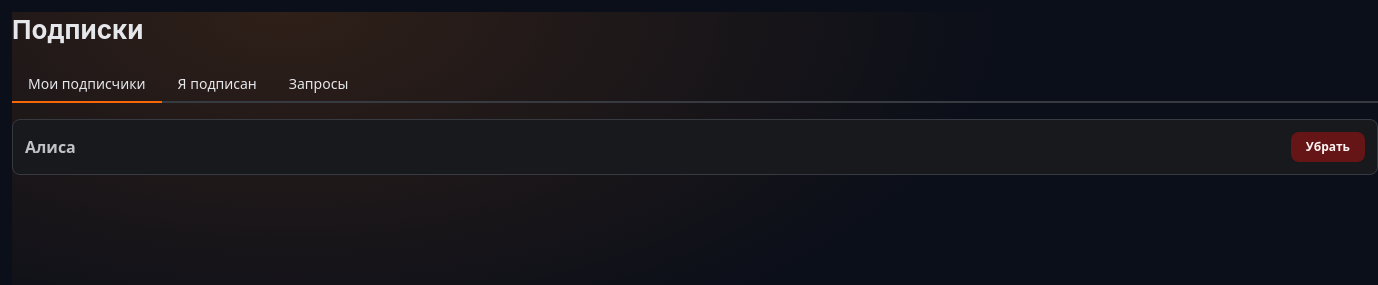
Test: FollowsPage › lists followers by default and switches to following
Expected: the link "Алиса" is shown, [25,136,76,158]
Click the tab "Я подписан" at x=217, y=85, box [162,67,273,103]
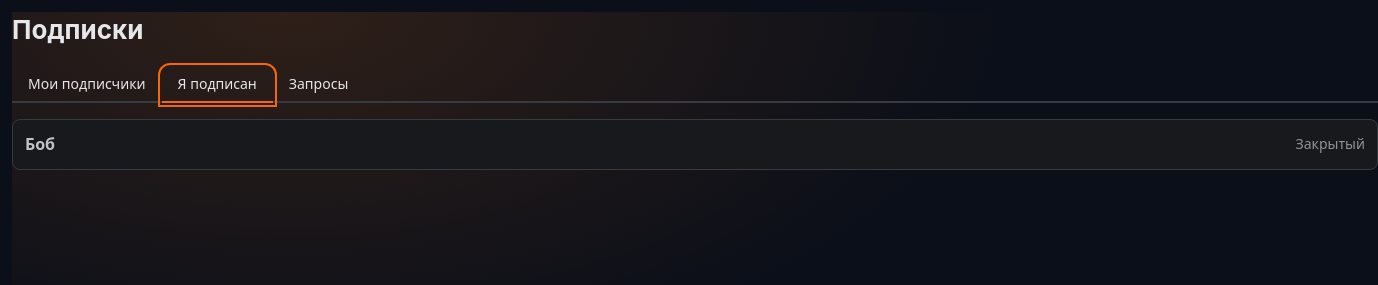
Result: the link "Боб" is shown at [25,133,55,155]
